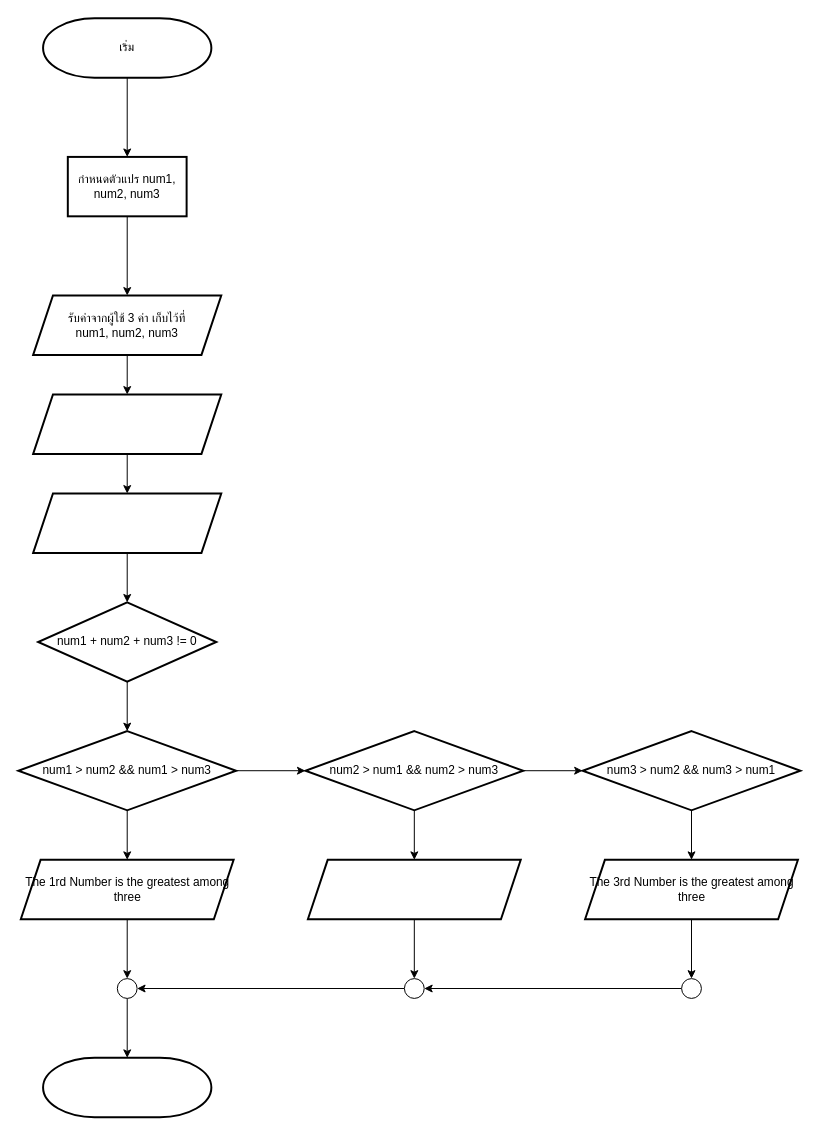
Some shapes in this 818 by 1135 pixel diagram are drawn without their labels. Each missing label, with the box of its shape:
1st Number = 12 2nd Number = 2 3rd Number = 52: (32, 492, 222, 553)
The 2rd Number is the greatest among three: (306, 858, 521, 920)
จบ: (42, 1056, 212, 1118)
แสดงค่า num1, num2, num3: (32, 393, 222, 454)
